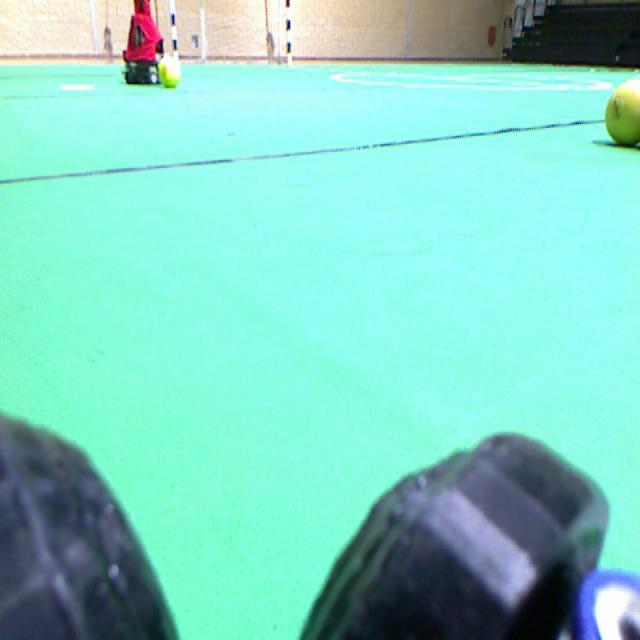ball: (605, 79, 639, 144), (158, 53, 180, 87)
